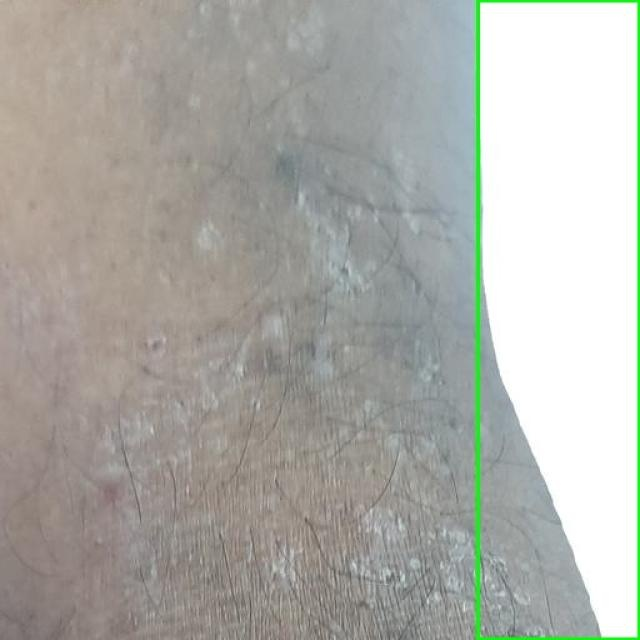Contact Dermatitis: (478, 0, 639, 639)
